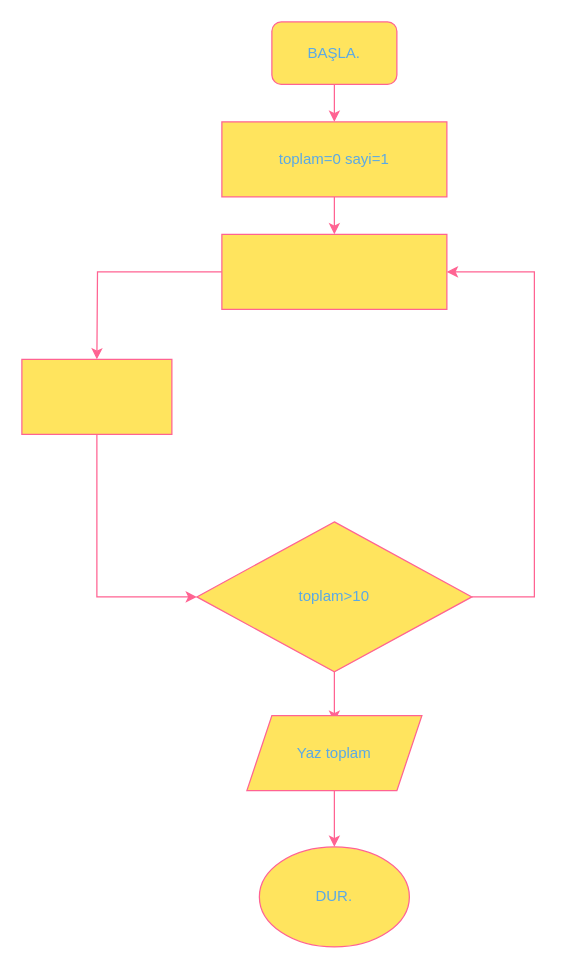
This 566x969 diagram has some shape labels left out. The centre of each missing label's shape, as x and y in pixels:
"sayi=sayı+1" goes at point (96, 396).
"toplam=toplam+sayi" goes at point (334, 271).
